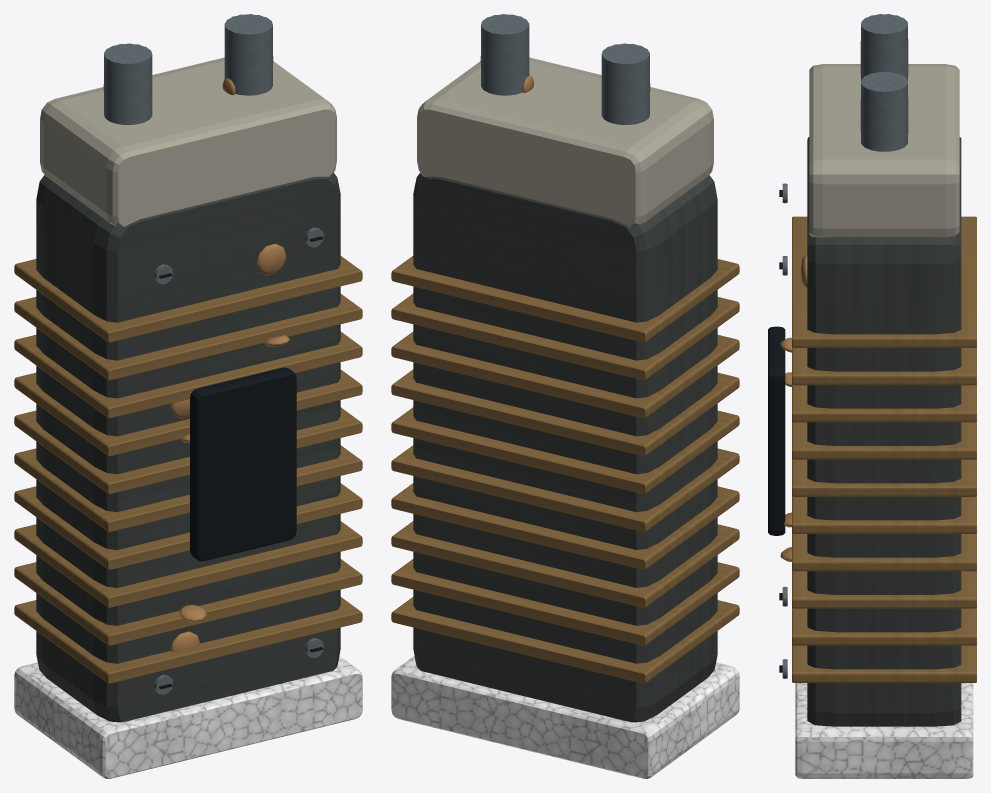
3 renders of one model, left to right at view 1: azimuth 30°, elevation 25°; view 2: azimuth 150°, elevation 25°; view 3: azimuth 270°, elevation 25°, orthographic.
Parts seen in each view (by area): view 1: machined receiver, edge hardware, ceramic insulator, vulcanized grip, recess shadow, brushed steel, peened pin (×2); view 2: machined receiver, edge hardware, ceramic insulator, vulcanized grip, brushed steel; view 3: machined receiver, edge hardware, ceramic insulator, vulcanized grip, brushed steel, recess shadow, peened pin.
Boxes of the visible parts, x1=… form: machined receiver: x1=36, y1=172, x2=340, y2=722; edge hardware: x1=14, y1=256, x2=362, y2=683; ceramic insulator: x1=40, y1=57, x2=336, y2=227; vulcanized grip: x1=14, y1=656, x2=362, y2=778; recess shadow: x1=190, y1=367, x2=296, y2=561; brushed steel: x1=103, y1=14, x2=323, y2=694; peened pin (×2): x1=170, y1=243, x2=289, y2=652; machined receiver: x1=413, y1=172, x2=717, y2=722; edge hardware: x1=391, y1=256, x2=739, y2=683; ceramic insulator: x1=417, y1=57, x2=713, y2=227; vulcanized grip: x1=391, y1=656, x2=739, y2=778; brushed steel: x1=480, y1=14, x2=650, y2=124; machined receiver: x1=807, y1=137, x2=961, y2=726; edge hardware: x1=792, y1=216, x2=976, y2=682; ceramic insulator: x1=809, y1=64, x2=959, y2=237; vulcanized grip: x1=795, y1=683, x2=973, y2=778; brushed steel: x1=782, y1=14, x2=908, y2=678; recess shadow: x1=768, y1=326, x2=785, y2=535; peened pin: x1=780, y1=337, x2=791, y2=561.
Bounding box in the file's own units: 0.0866 × 0.2148 × 0.061.
9 materials, 4 textured.
